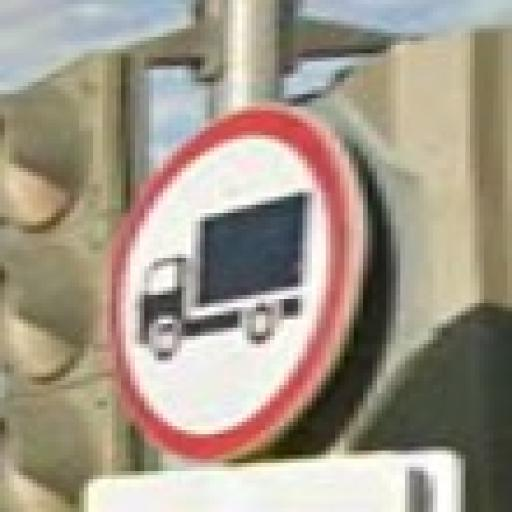traffic_sign: (108, 103, 369, 464)
